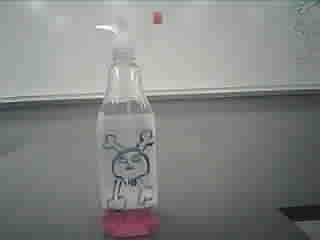hazard: (81, 9, 174, 240)
